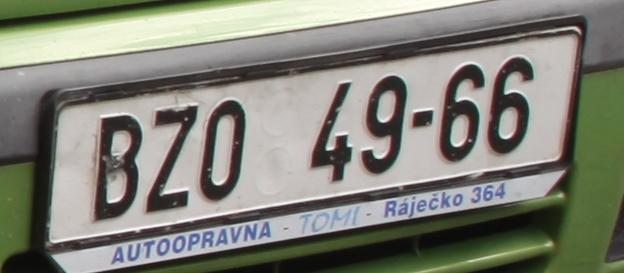-: (412, 110, 434, 127)
0: (203, 100, 243, 197)
4: (312, 83, 352, 181)
6: (489, 57, 534, 153), (442, 65, 483, 161)
9: (364, 76, 405, 172)
B: (98, 118, 138, 219)
Z: (148, 107, 198, 210)
